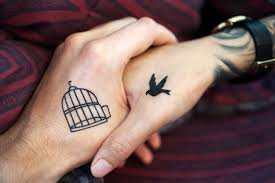hand: (27, 8, 215, 171)
